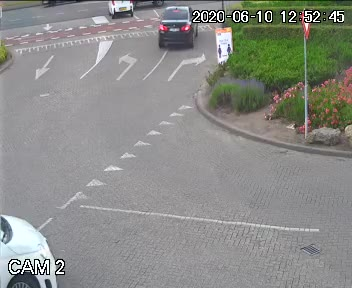car: (153, 3, 200, 53), (104, 0, 134, 20)
